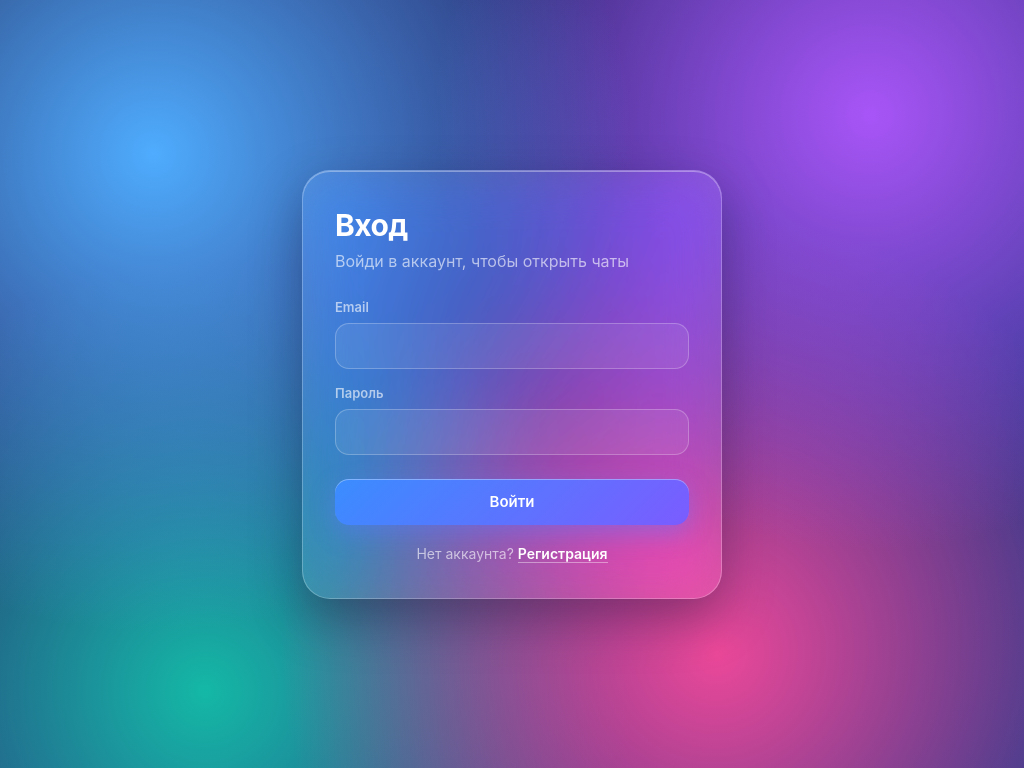
Test: LoginPage › shows the API error message on failure
Type "ifa@example.com" into the field labelled "Email" at (512, 346), box [335,322,689,368]
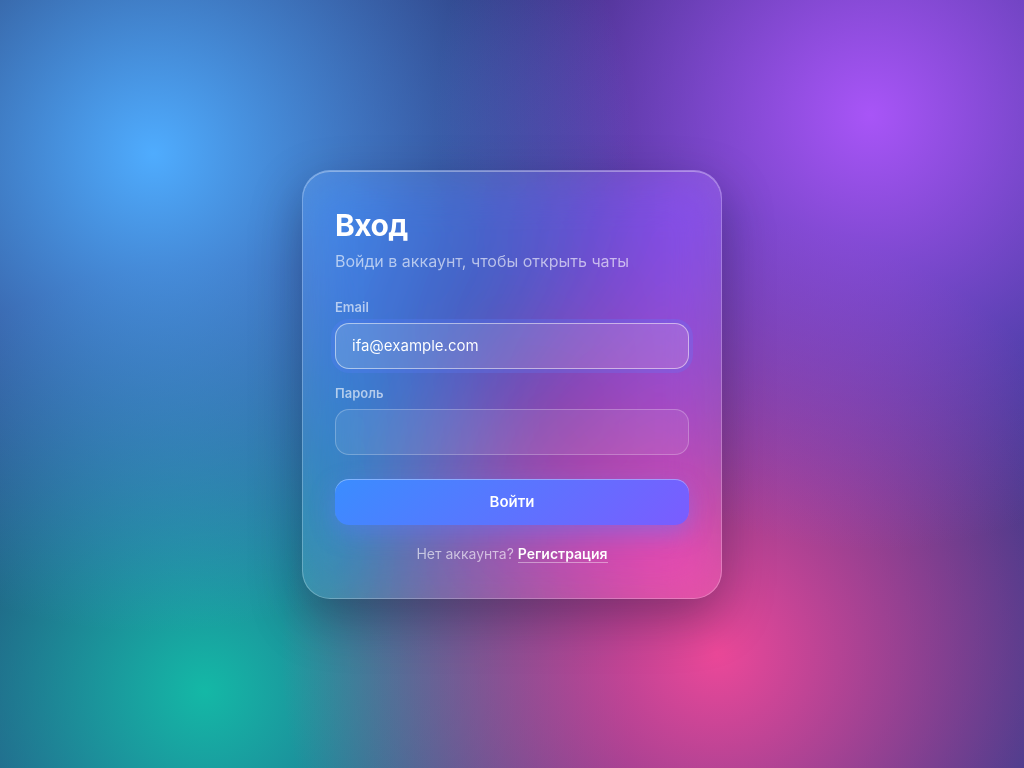
Type "secret123" into the password field labelled "Пароль" at (512, 432), box [335,408,689,454]
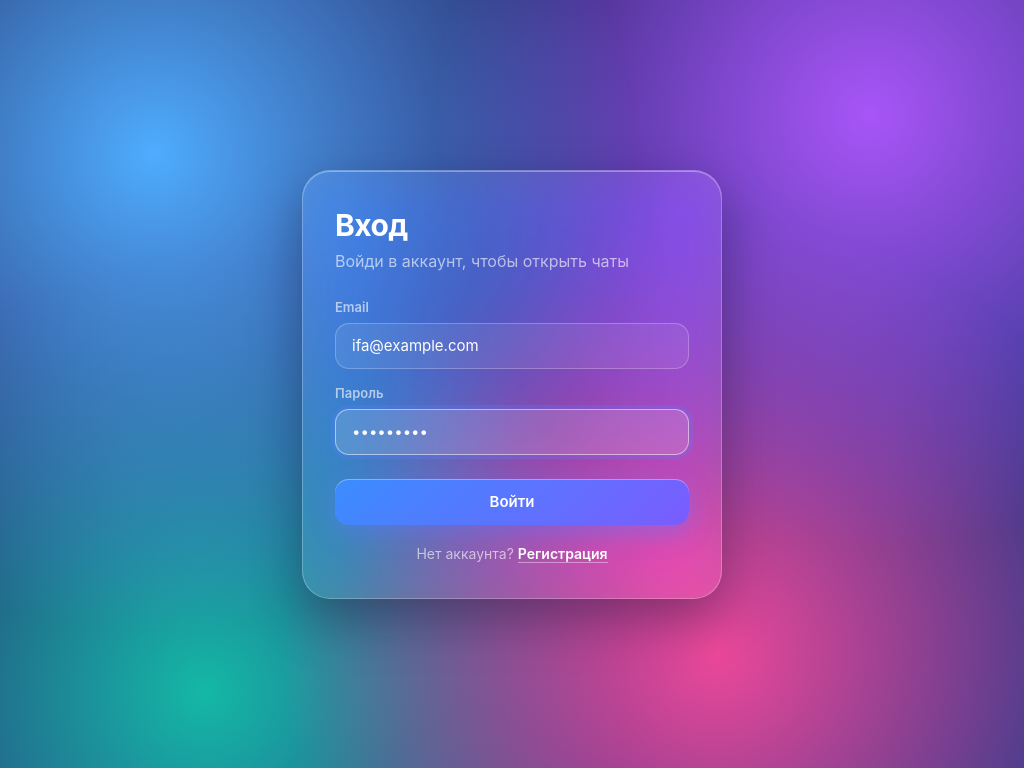
Click the button "Войти" at (512, 502), box [335,478,689,524]
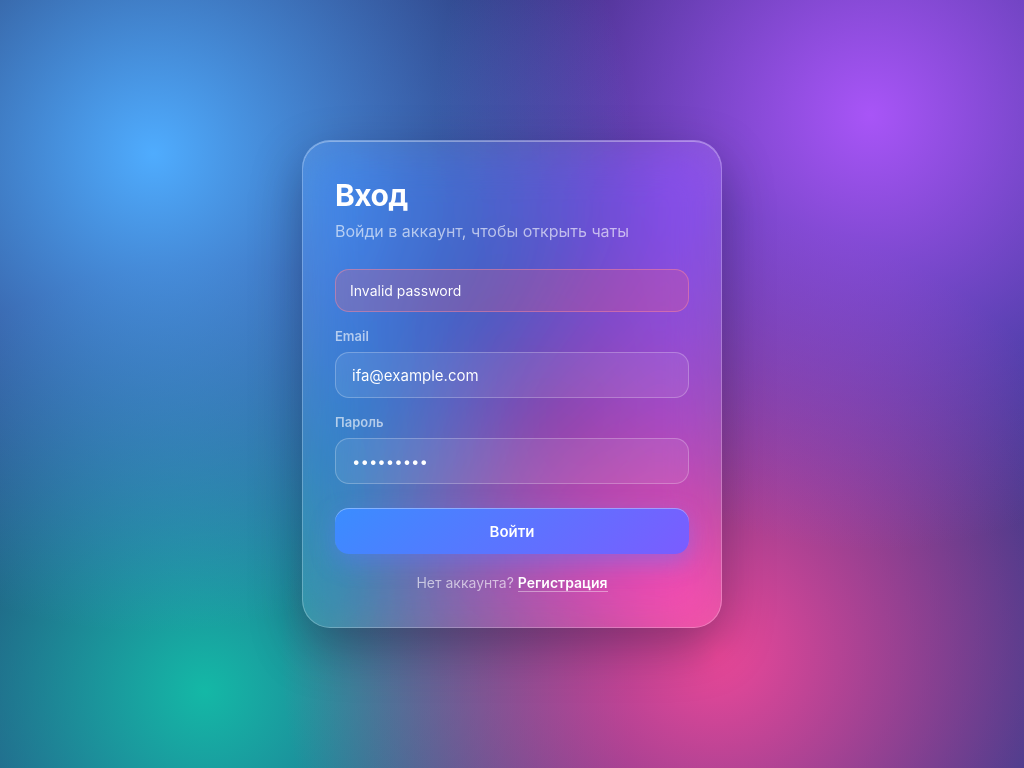
Expected: the text "Invalid password" is shown, [335,269,689,312]
